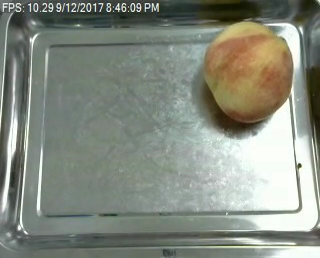Peach: (201, 20, 294, 123)
